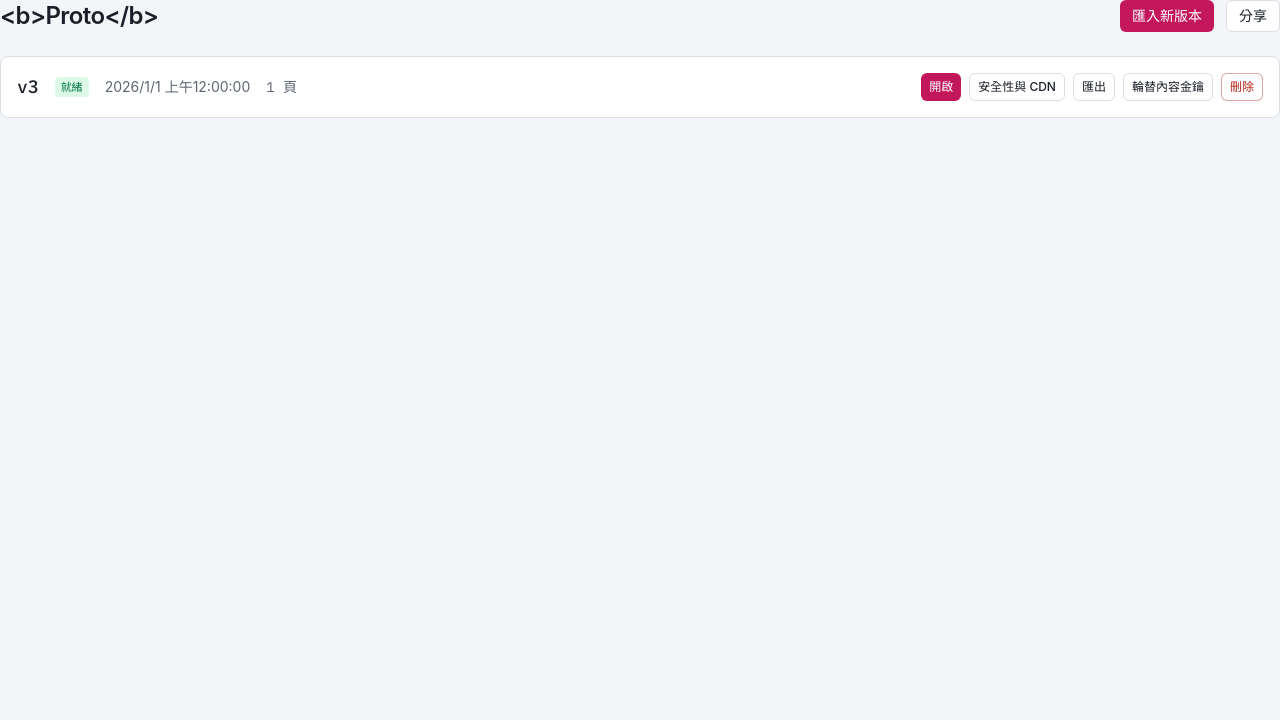
Scenario: ProjectDetail › shows versions, opens, expands report, deletes
Expected: the text "v3" is shown, [17,73,39,101]
Expected: the text "1 頁" is shown, [266,77,297,97]
Click the button with aria-label "開啟 v3".
click(941, 87)  # box [921,73,961,101]
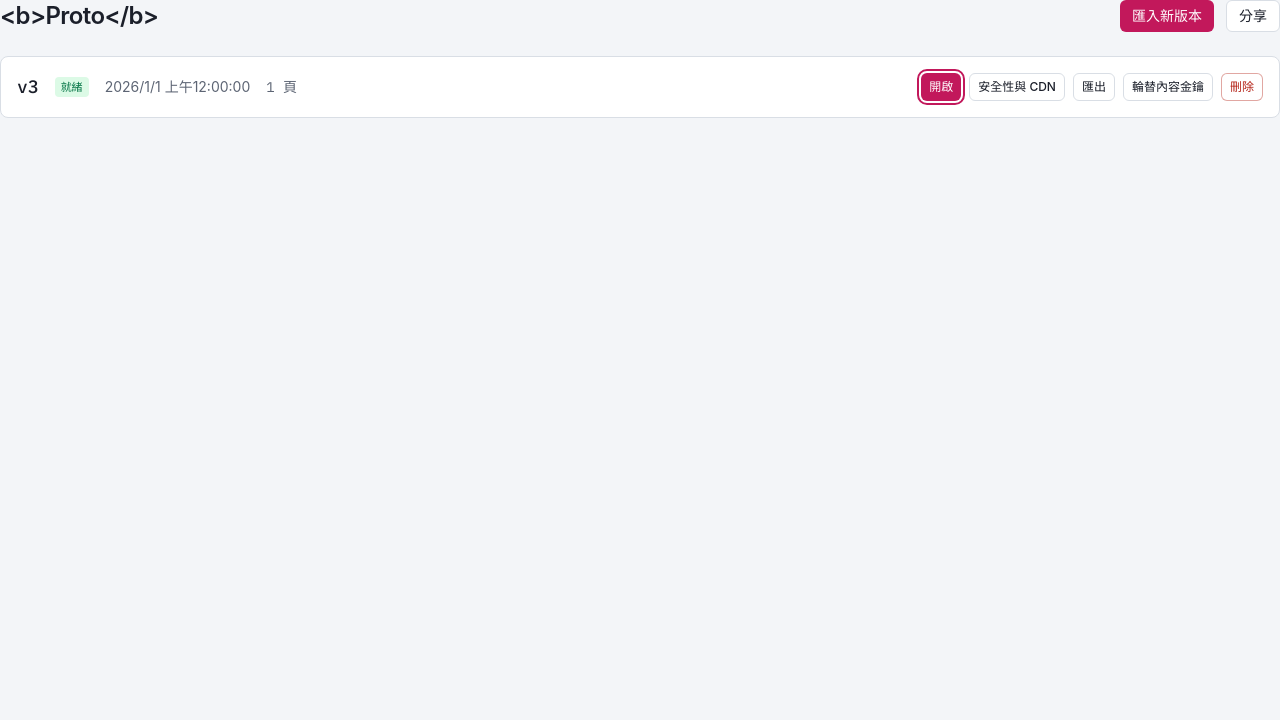
Click the button "安全性與 CDN".
click(1017, 87)  # box [969,73,1065,101]
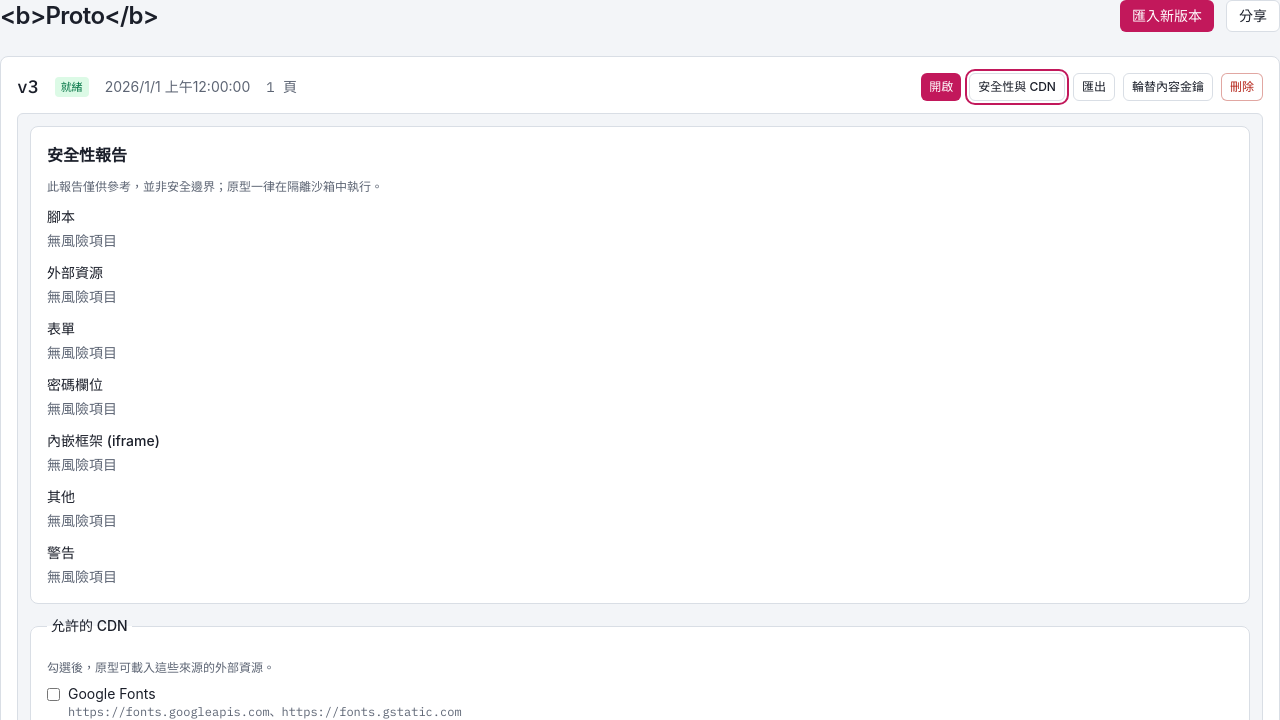
Result: the heading "安全性報告" is shown at [47,145,127,165]
Result: the text "允許的 CDN" is shown at [47,616,132,636]
Click the button with aria-label "刪除 v3".
click(1242, 87)  # box [1221,73,1263,101]
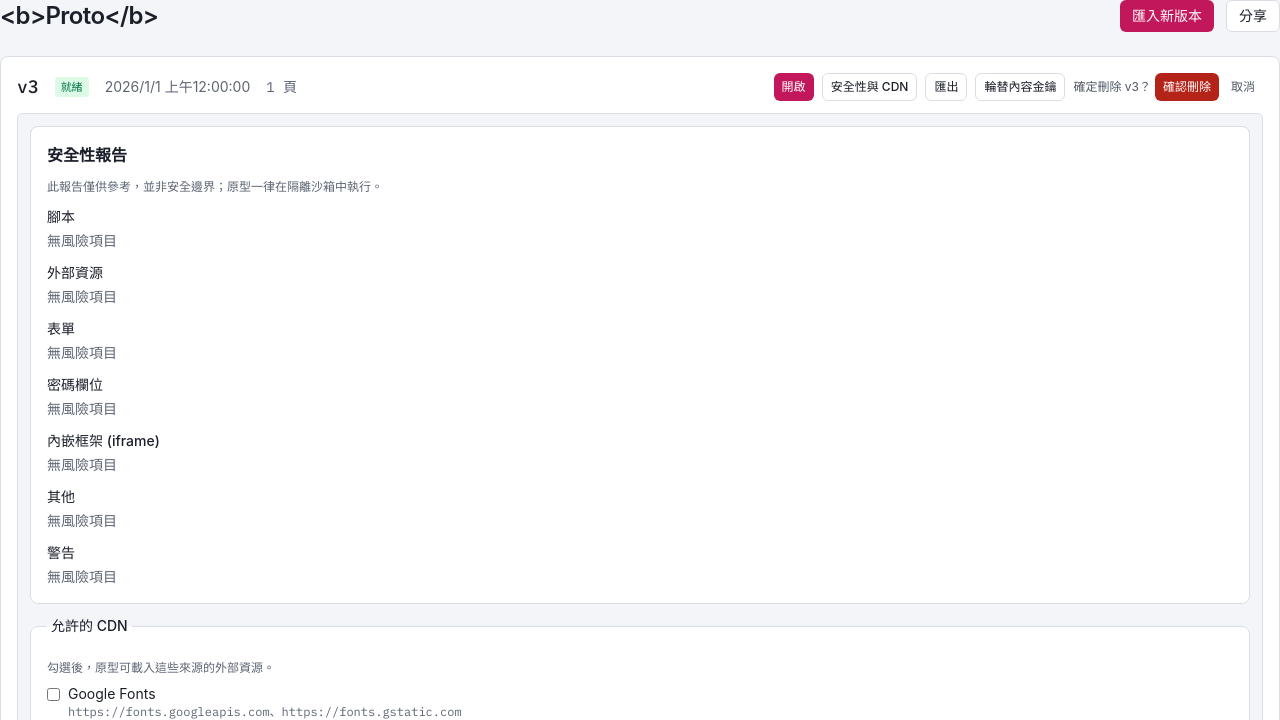
Click the button "確認刪除".
click(1187, 87)  # box [1155,73,1219,101]
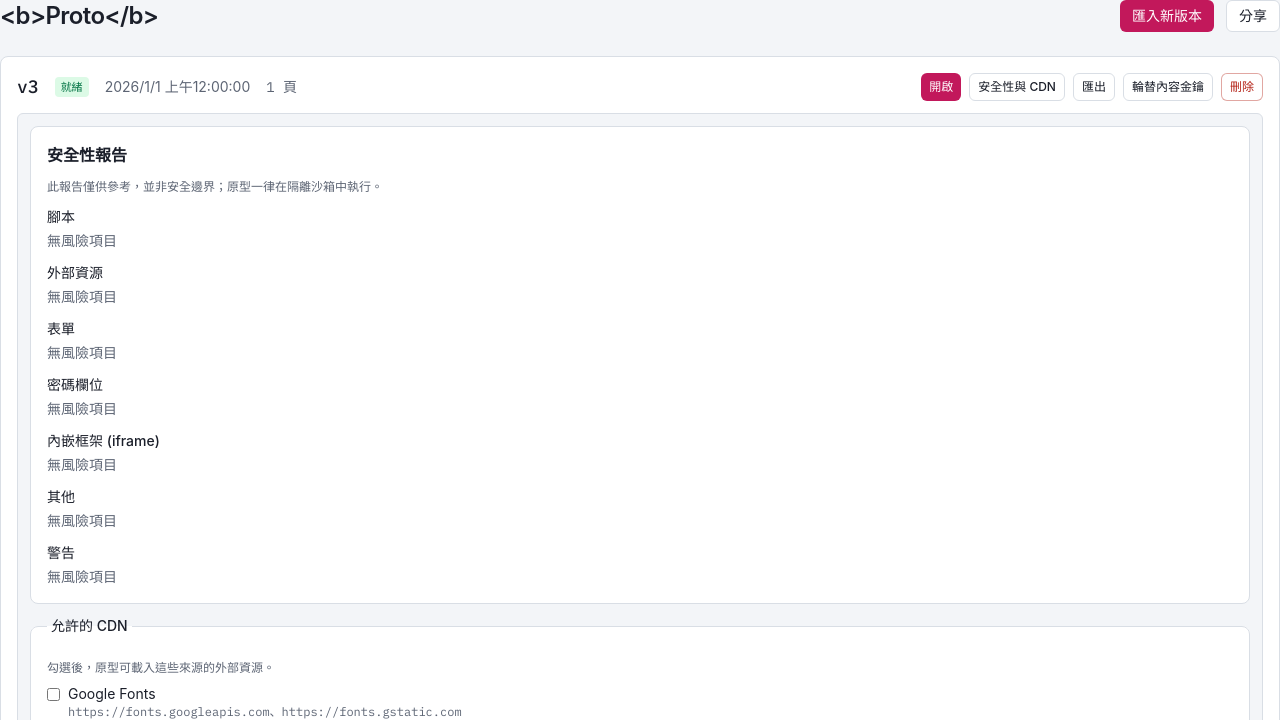
Click the button "匯入新版本".
click(1167, 16)  # box [1120,0,1214,32]
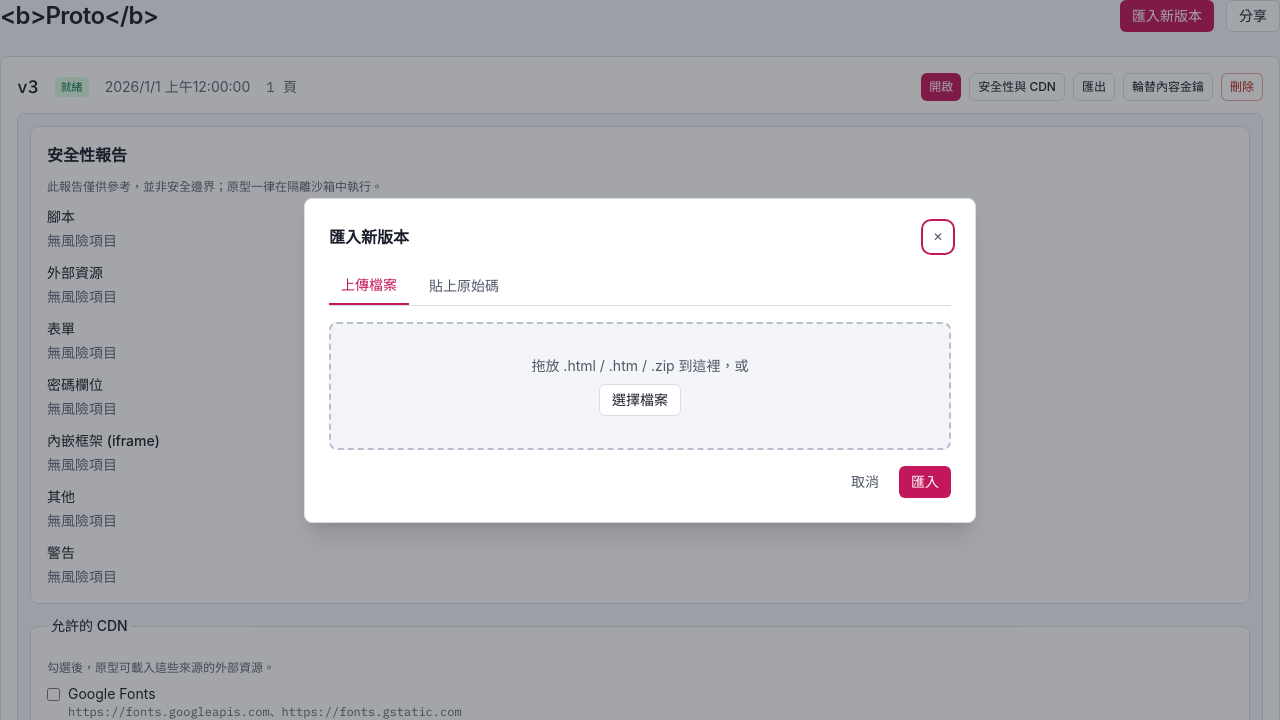
Result: the dialog is shown at [304,198,976,522]
